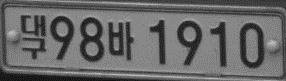0: (238, 21, 265, 69)
1: (208, 21, 234, 67), (148, 19, 172, 64)
8: (78, 16, 105, 62)
9: (176, 19, 203, 65), (49, 15, 74, 60)
대구_V: (20, 14, 47, 60)
바: (107, 21, 134, 60)
